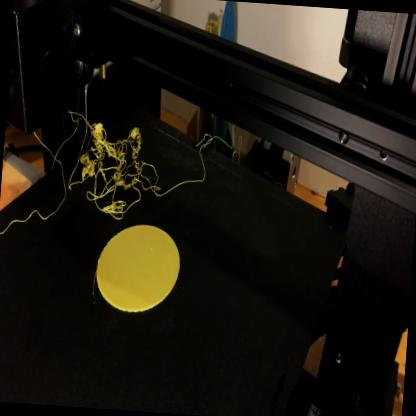fail: (49, 135, 208, 229)
